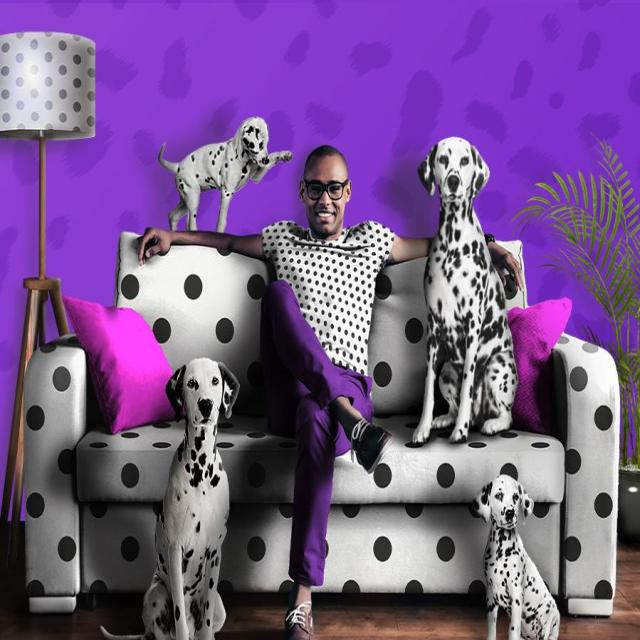Dog: (163, 352, 246, 445), (414, 132, 492, 209), (468, 469, 536, 539), (235, 108, 276, 176)
